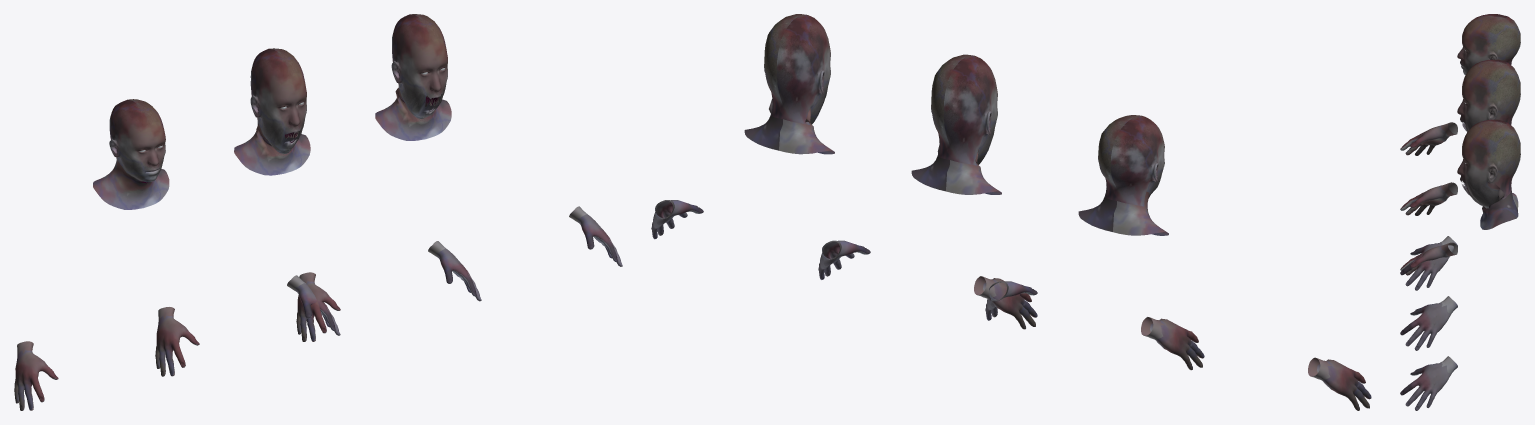
File: _dec.glb
The picture shows the model from 3 angles, left to right: view 1: azimuth 30°, elevation 25°; view 2: azimuth 150°, elevation 25°; view 3: azimuth 270°, elevation 25°; orthographic projection. The views are drawn at different scales.
Visible parts, largest first — view 1: t1_body, t2_body, t0_body; view 2: t1_body, t2_body, t0_body; view 3: t2_body, t1_body, t0_body.
Boxes of the visible parts, <box> form: t1_body: <box>155,48,481,376</box>; t2_body: <box>296,14,622,341</box>; t0_body: <box>14,99,340,410</box>; t1_body: <box>818,54,1204,370</box>; t2_body: <box>651,14,1037,329</box>; t0_body: <box>985,115,1371,410</box>; t2_body: <box>1400,119,1520,410</box>; t1_body: <box>1400,59,1520,350</box>; t0_body: <box>1400,14,1520,290</box>.
Size of the model in its own units: 2.13 by 0.8601 by 0.4243.
Materials: 5 (3 with a texture image).
